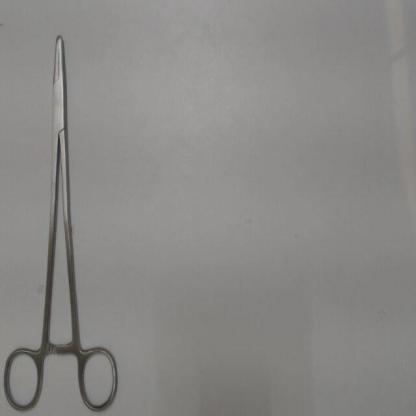8 Mayo Needle Holder: (0, 12, 124, 415)
